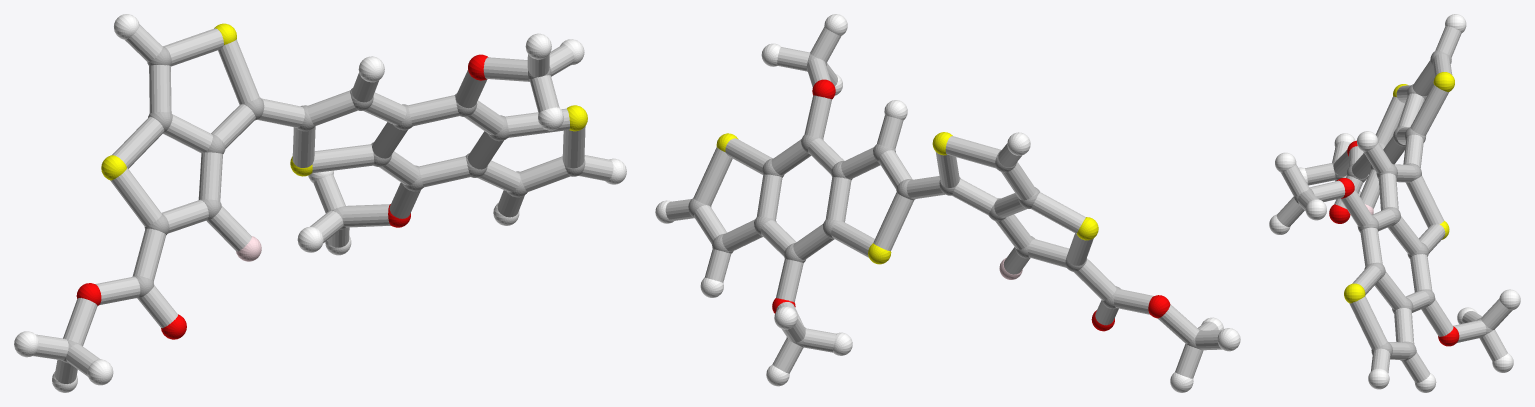
Rendered from color.glb.
3 renders of one model, left to right at view 1: azimuth 30°, elevation 25°; view 2: azimuth 150°, elevation 25°; view 3: azimuth 270°, elevation 25°, orthographic. The views are drawn at different scales.
Visible parts, largest first — view 1: grp15205, grp8689, grp1, grp13395, grp7241; view 2: grp15205, grp8689, grp1, grp7241, grp13395; view 3: grp15205, grp8689, grp1, grp13395, grp7241.
Boxes of the visible parts, <box> form: grp15205: <box>33,24,613,383</box>; grp8689: <box>14,14,626,392</box>; grp1: <box>62,46,585,363</box>; grp13395: <box>76,54,488,339</box>; grp7241: <box>101,23,587,180</box>; grp15205: <box>665,27,1222,378</box>; grp8689: <box>655,14,1240,392</box>; grp1: <box>688,54,1202,348</box>; grp7241: <box>716,132,1098,264</box>; grp13395: <box>772,79,1170,331</box>; grp15205: <box>1276,26,1512,382</box>; grp8689: <box>1269,14,1520,392</box>; grp1: <box>1294,50,1493,361</box>; grp13395: <box>1329,140,1459,346</box>; grp7241: <box>1344,72,1454,303</box>.
Bounding box in the file's own units: 16.67 × 8.06 × 7.04.
